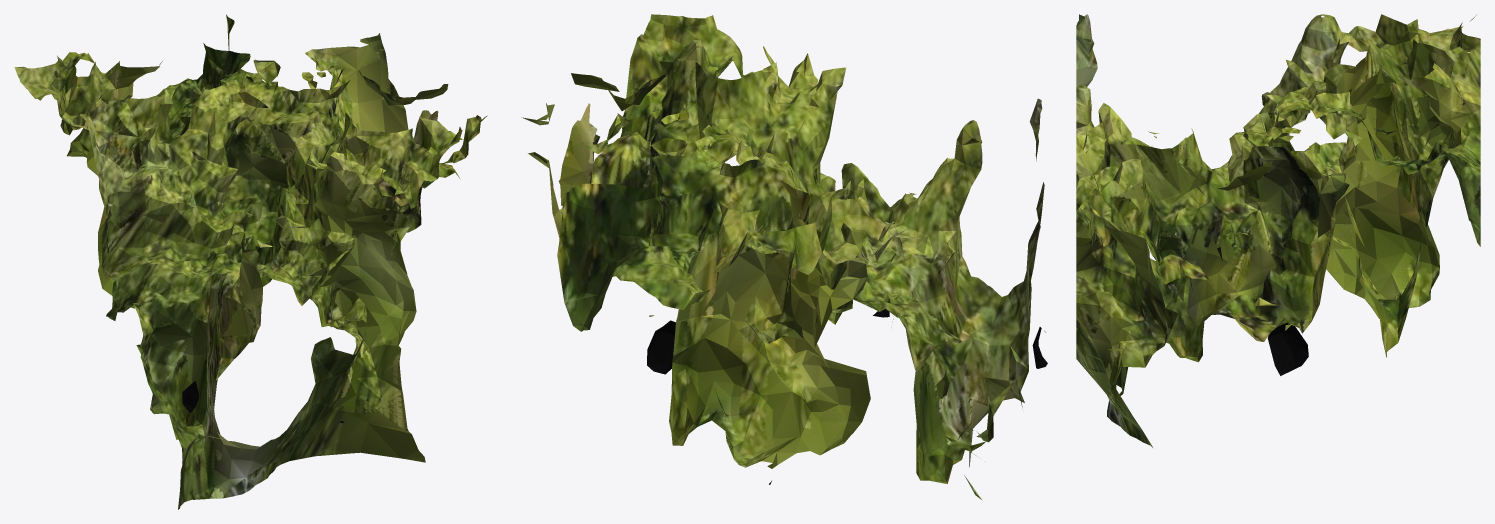
3 renders of one model, left to right at view 1: azimuth 30°, elevation 25°; view 2: azimuth 150°, elevation 25°; view 3: azimuth 270°, elevation 25°, orthographic. The views are drawn at different scales.
Size of the model in its own units: 2.95 by 2.95 by 2.95.
Materials: 7 (7 with a texture image).
